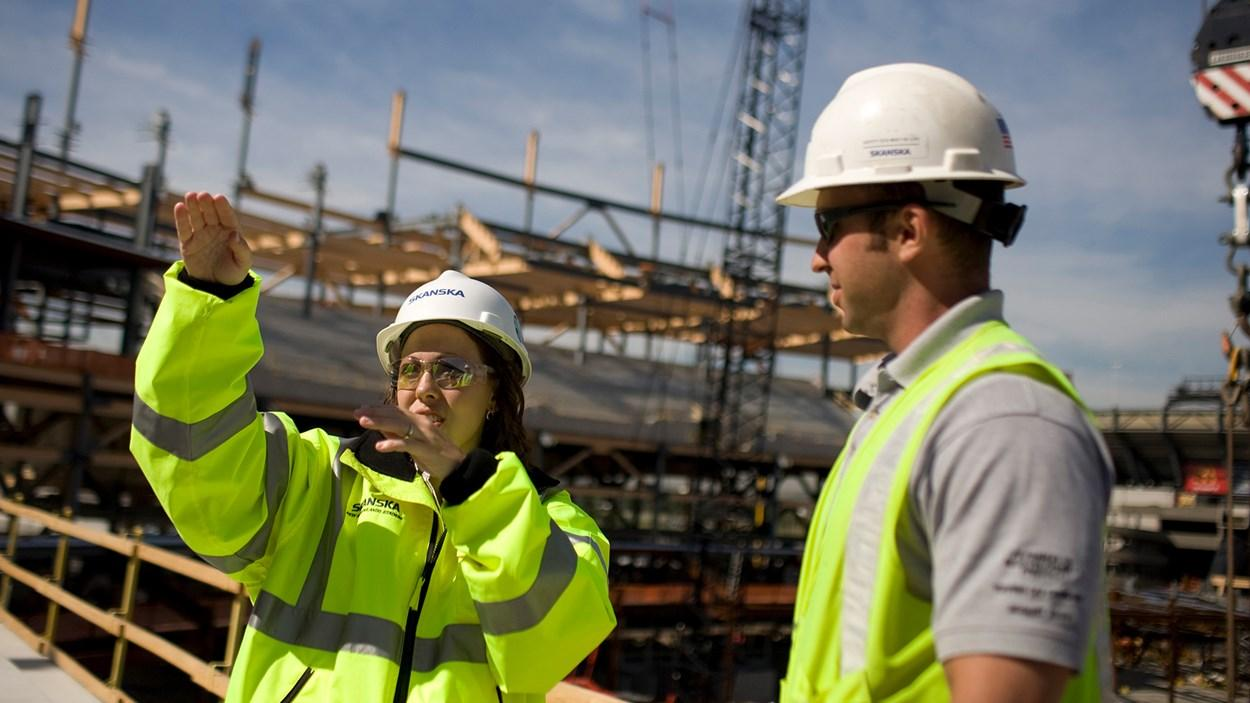helmet: (776, 63, 1029, 207), (377, 270, 534, 384)
